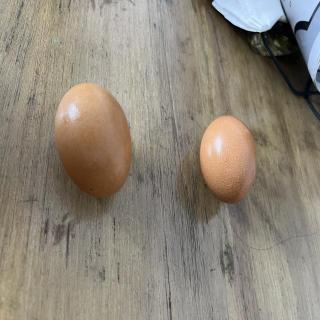Telur: (55, 82, 137, 200), (199, 113, 263, 207)
